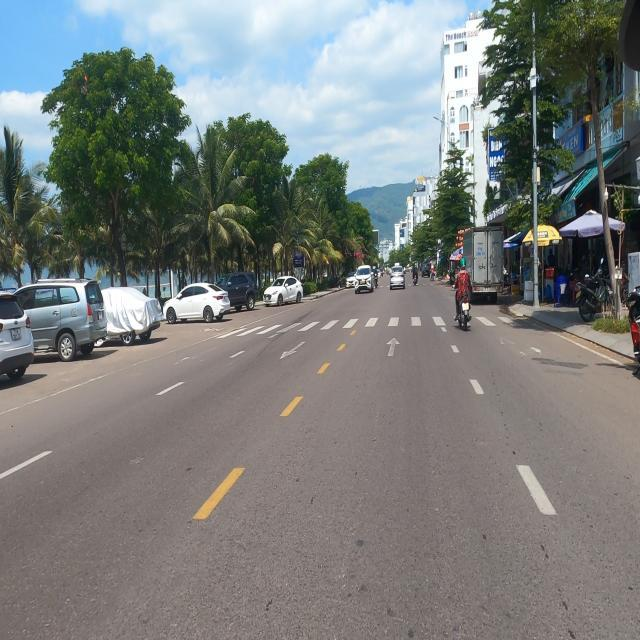walk-crossing: (238, 314, 500, 341)
